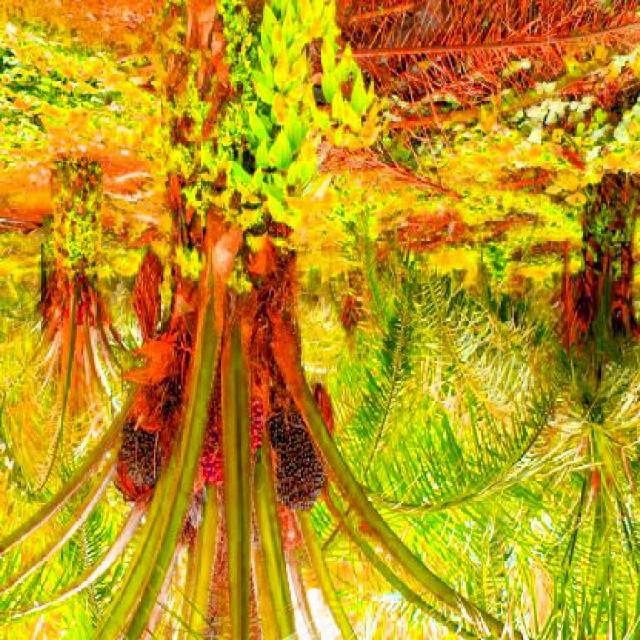palm-oil: (266, 408, 336, 514), (122, 408, 169, 512)
